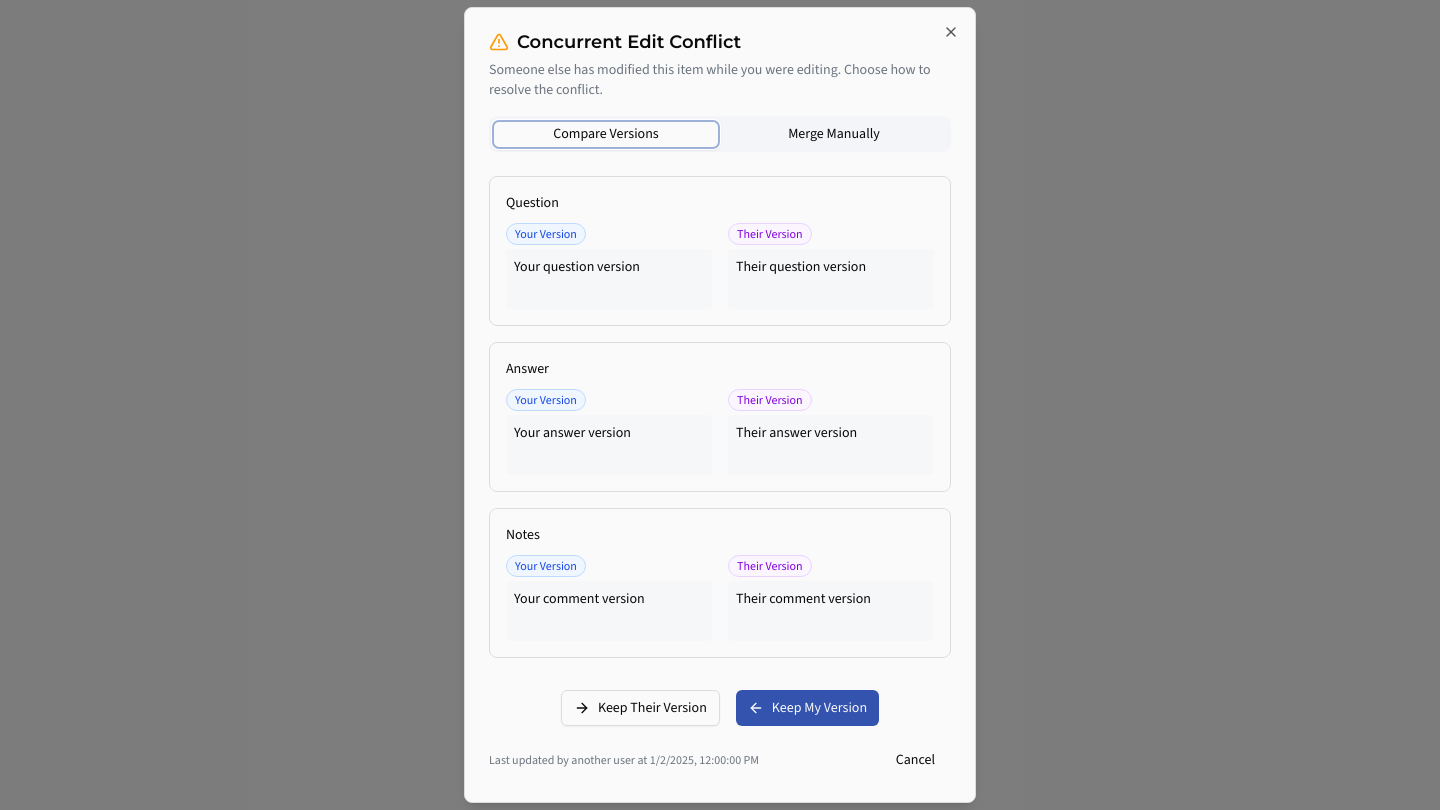
Test: ConflictResolutionModal › merge view (AC6) › should switch to merge tab when clicked
Click the tab "Merge Manually" at (834, 134), box [720,120,948,148]
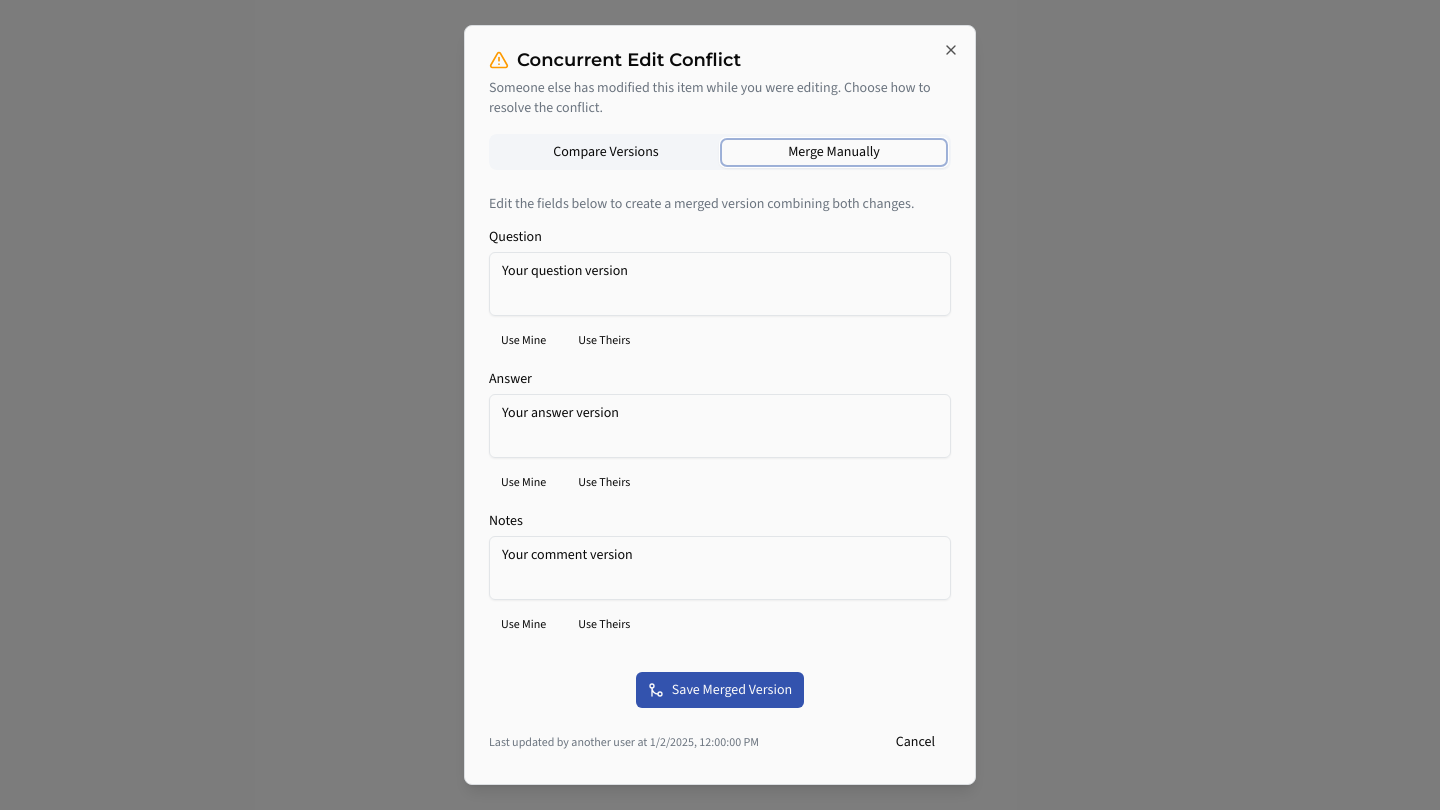
Expected: the text "Edit the fields below to create a merged version" is shown, [489,194,914,213]
